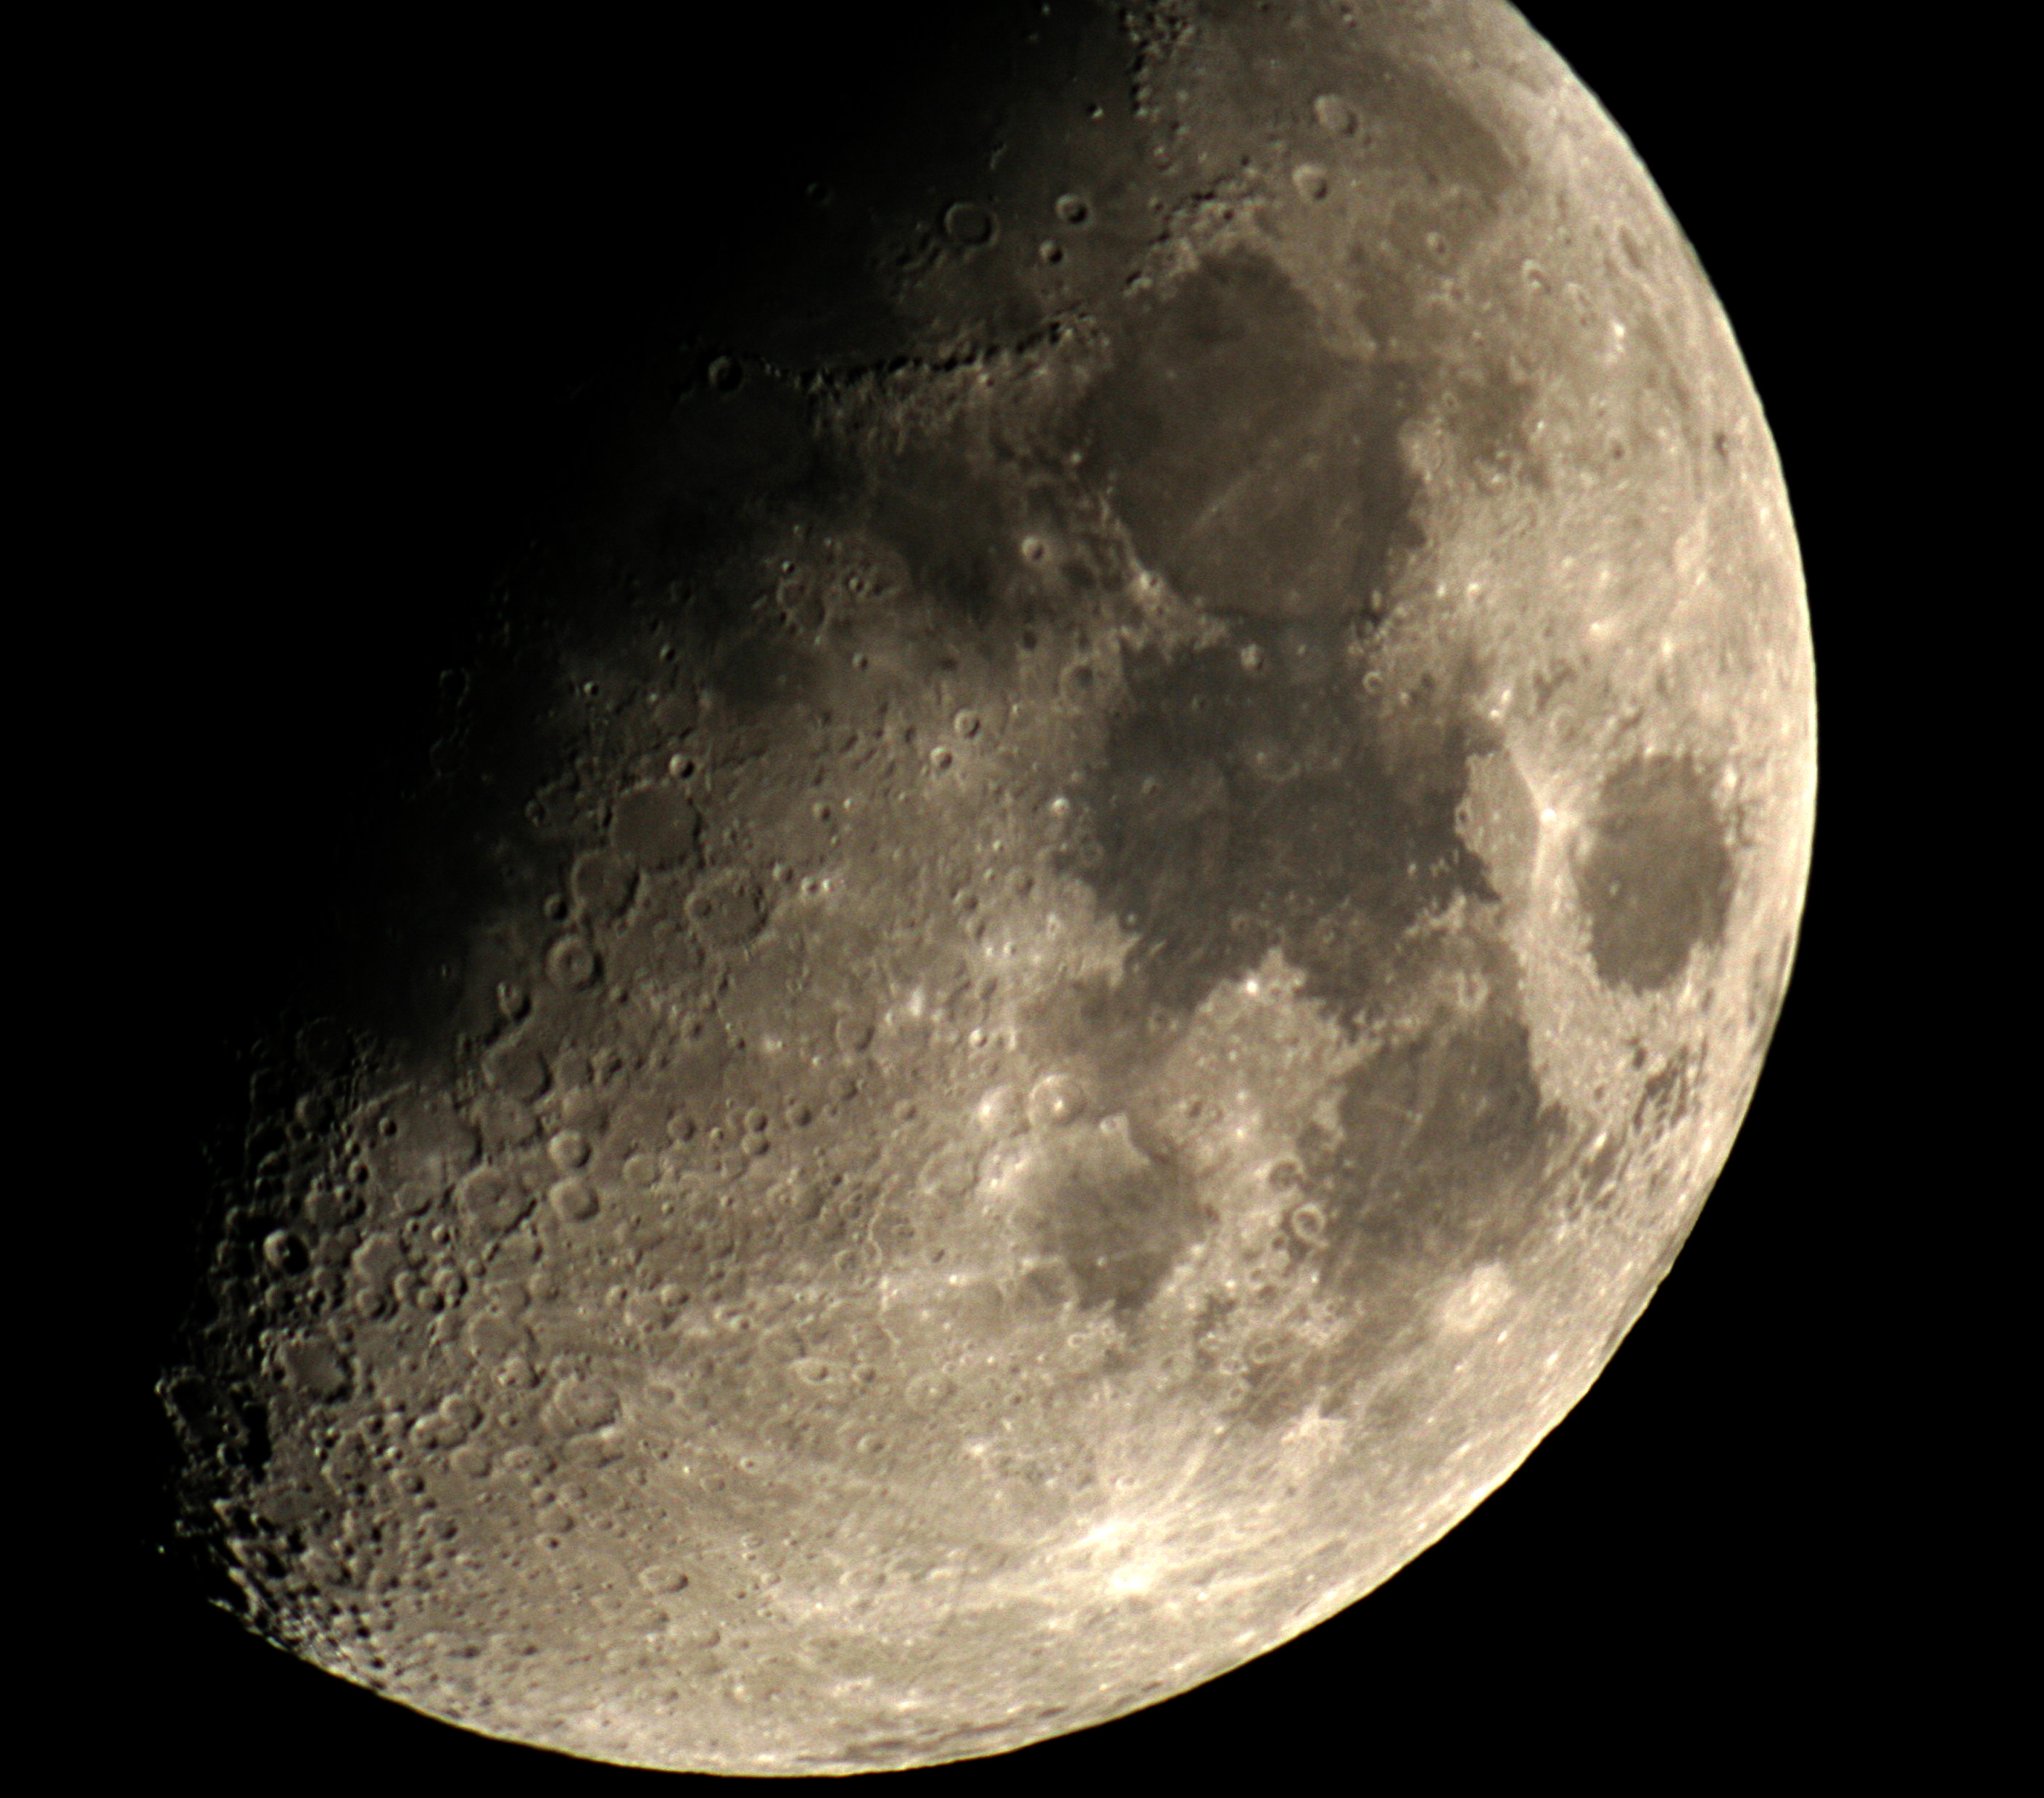crater: (991, 1475, 1255, 1638), (1422, 1233, 1543, 1369), (1500, 768, 1609, 879), (923, 181, 1010, 274), (1295, 75, 1385, 155), (1279, 151, 1344, 233), (1575, 299, 1648, 360), (1418, 221, 1470, 281), (368, 1103, 421, 1159), (928, 1261, 987, 1306), (1411, 570, 1463, 613), (1465, 561, 1505, 610), (1038, 1091, 1081, 1124)
